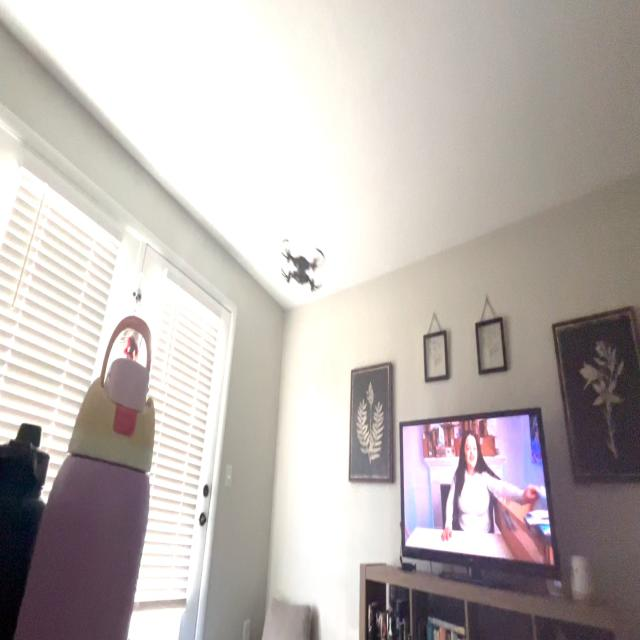drone: (274, 225, 332, 310)
